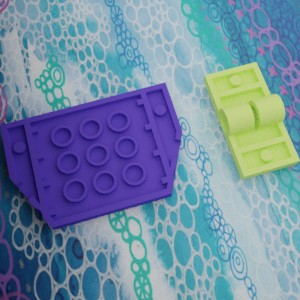lego: (0, 82, 182, 230), (203, 61, 299, 180)
